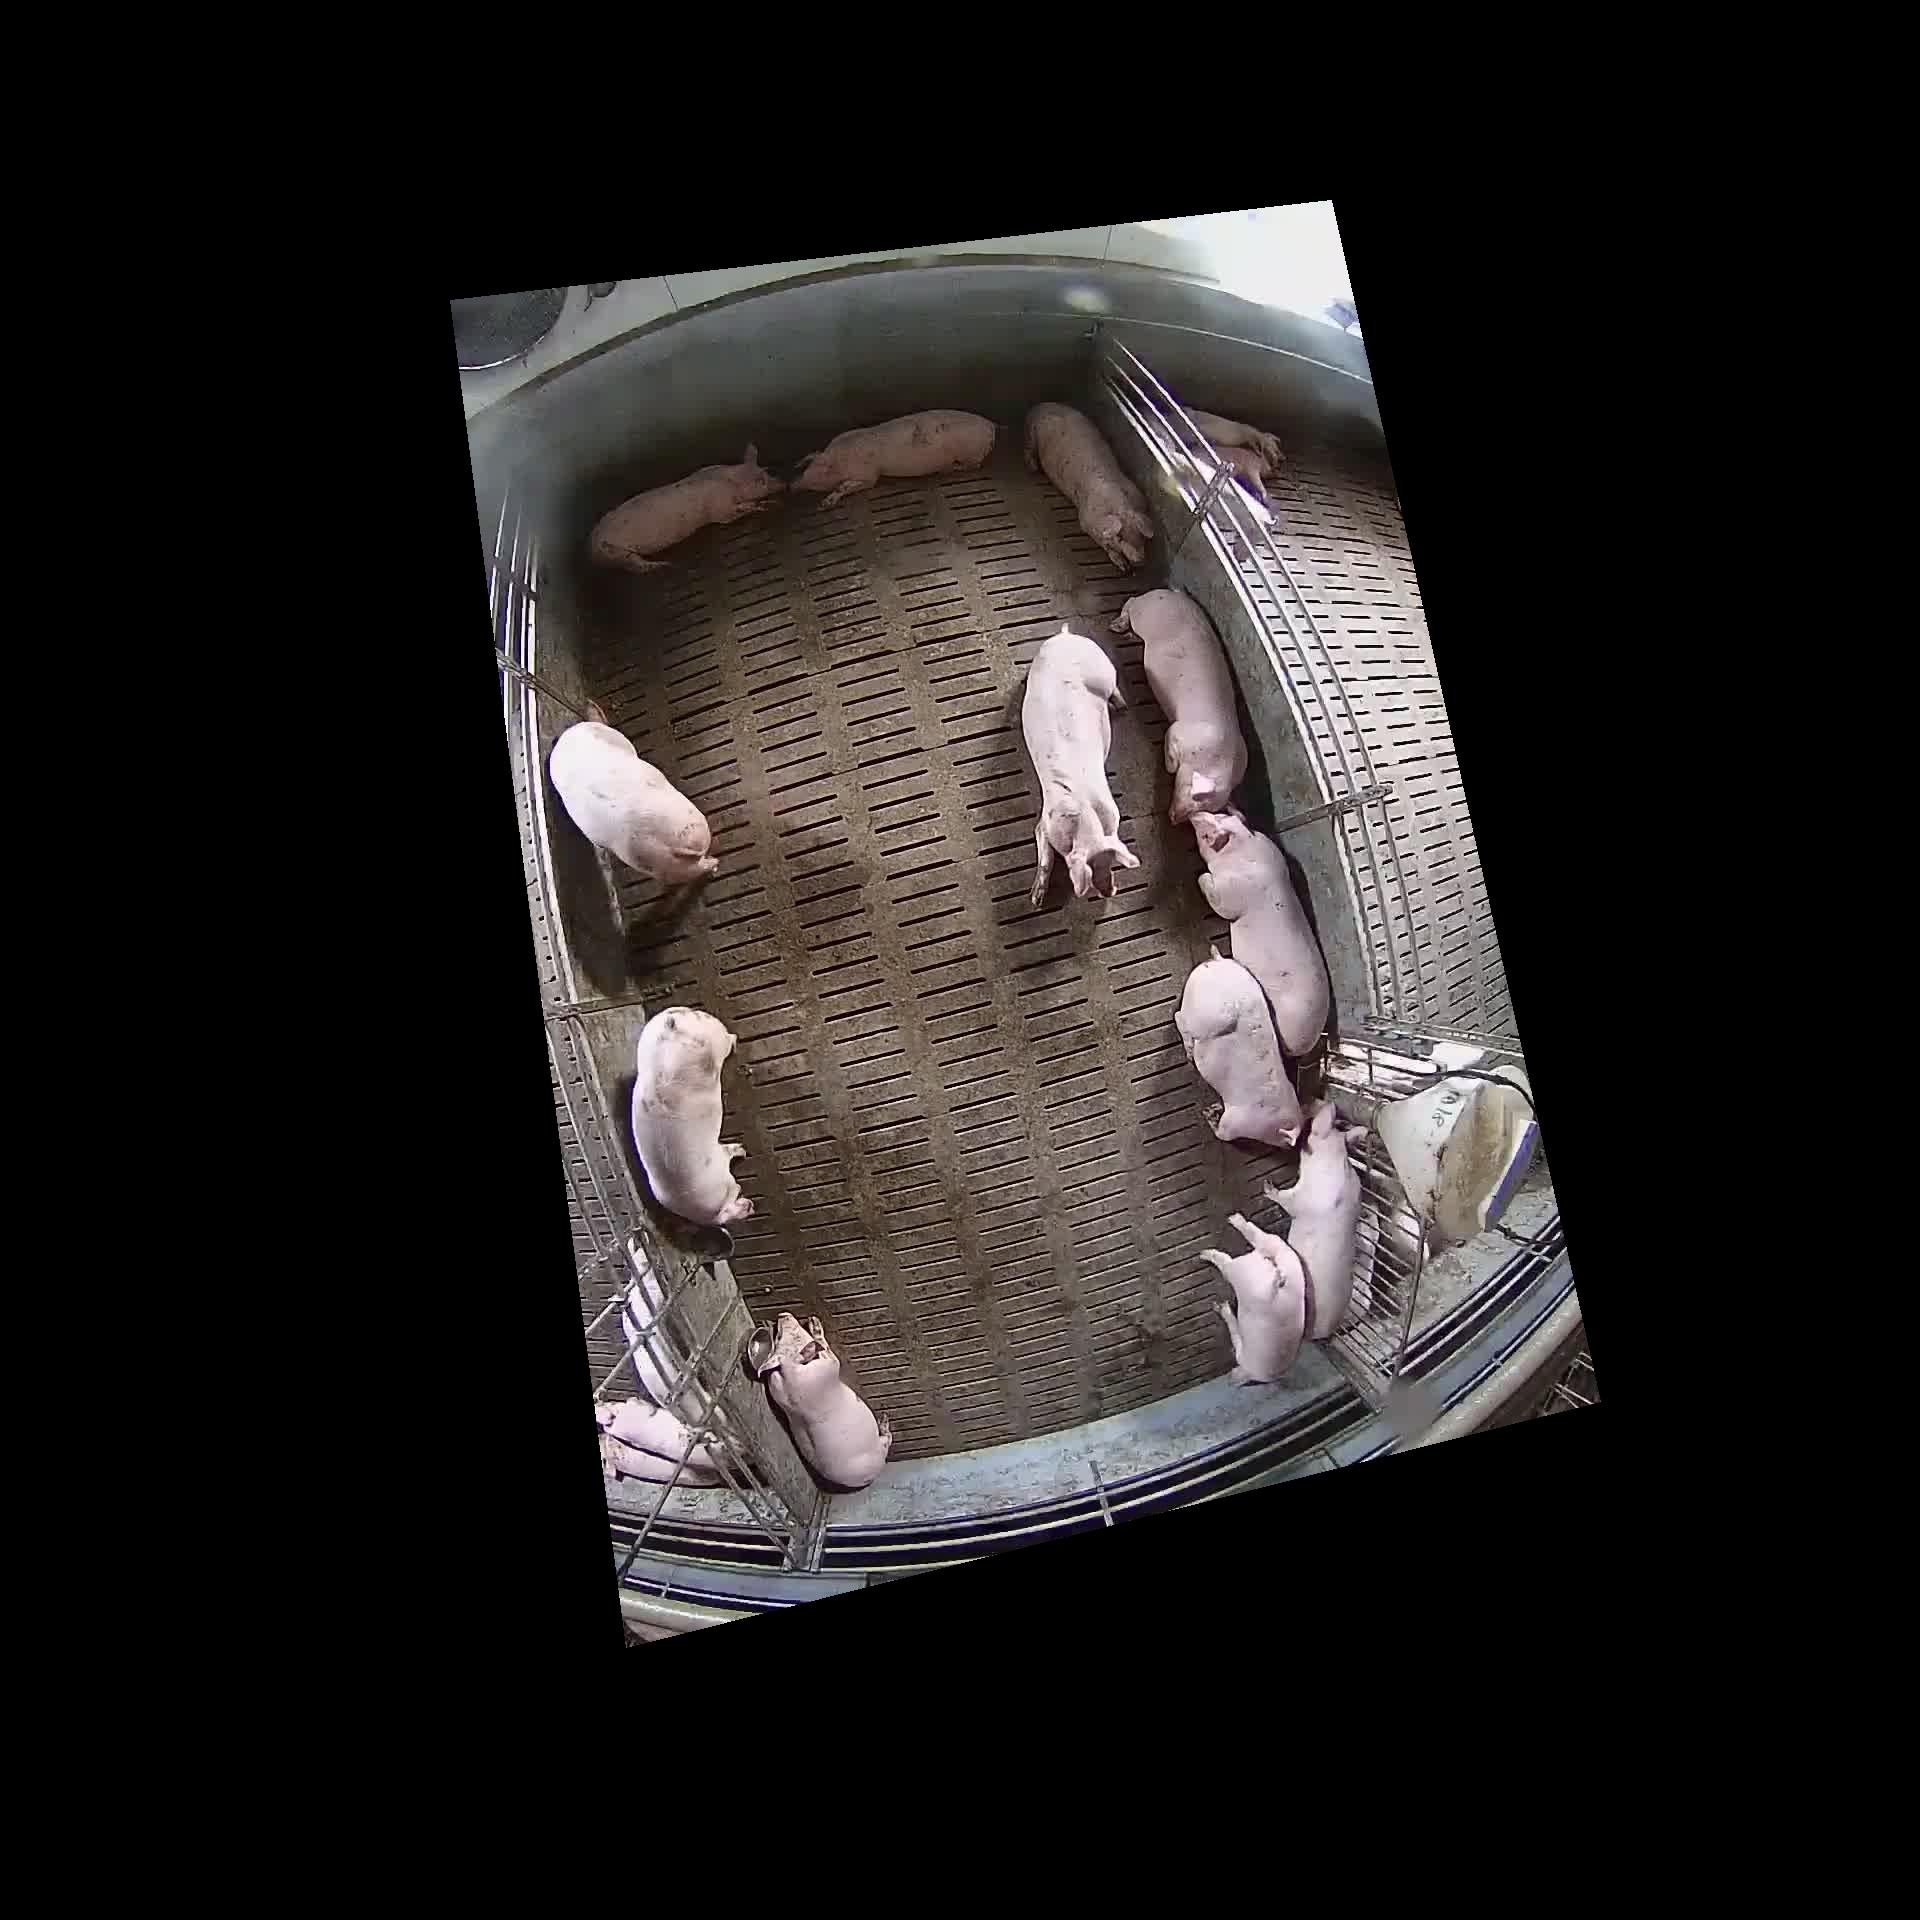pig: (1022, 622, 1134, 900), (552, 696, 717, 884), (1199, 816, 1329, 1053), (1115, 587, 1245, 823), (636, 1007, 753, 1220), (1176, 948, 1303, 1139), (760, 1312, 890, 1486), (600, 455, 781, 570), (1271, 1104, 1359, 1338), (1032, 408, 1148, 561), (1203, 1217, 1306, 1382), (804, 420, 993, 501)
